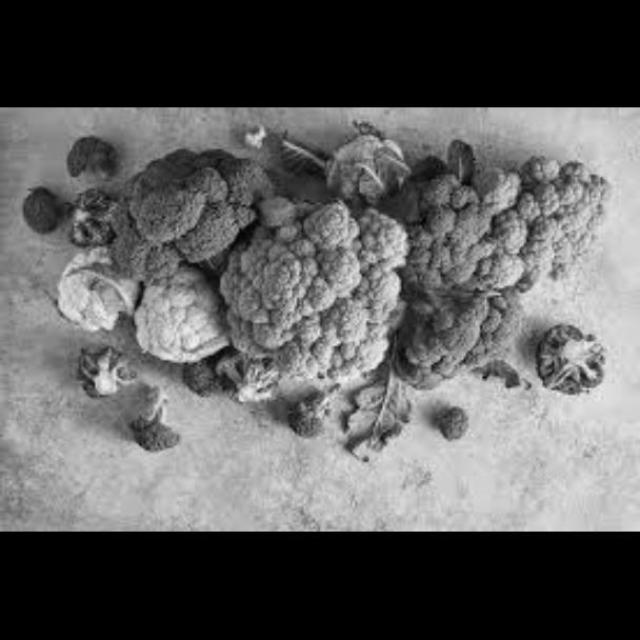bong cai xanh: (386, 143, 504, 398), (84, 135, 263, 273), (67, 344, 186, 452), (174, 360, 334, 440), (19, 127, 114, 258), (521, 306, 612, 403), (432, 406, 482, 449)
sup lo: (225, 204, 411, 400), (494, 151, 628, 287), (142, 268, 239, 369), (48, 240, 135, 342)
